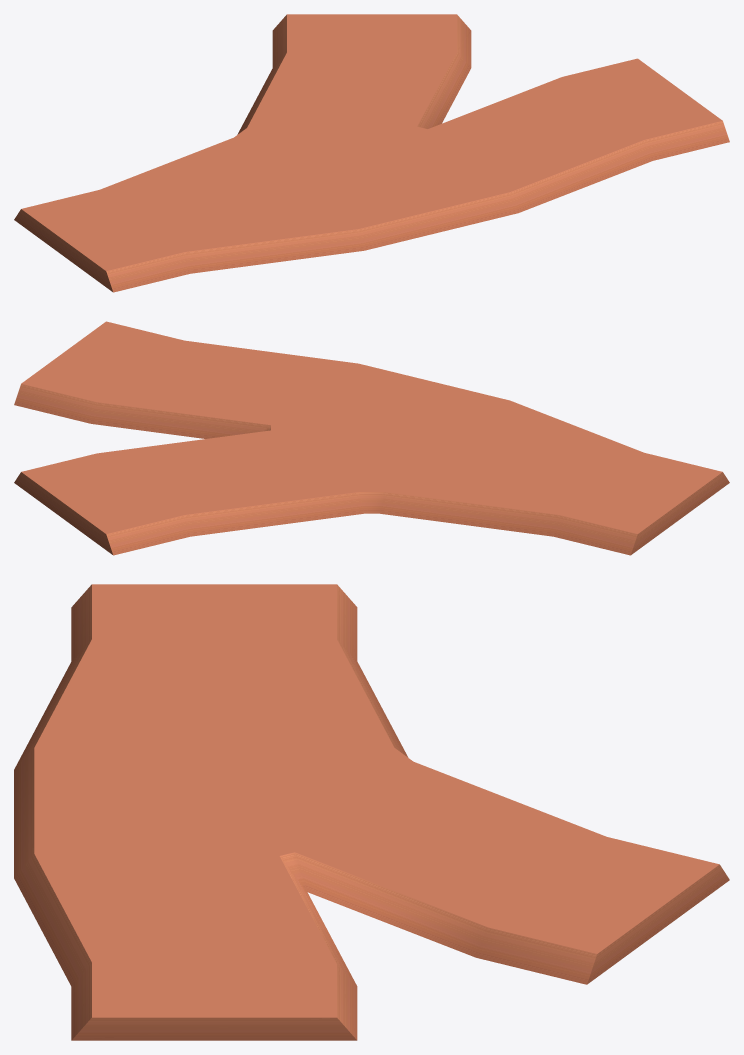
The model's file is path-intersection-b.glb.
3 views of the same model, one above another, from view 1: azimuth 30°, elevation 25°; view 2: azimuth 150°, elevation 25°; view 3: azimuth 270°, elevation 25° (orthographic). The views are drawn at different scales.
Visible parts, largest first — view 1: path-intersectionB; view 2: path-intersectionB; view 3: path-intersectionB.
Part boxes in pixels (<box>): path-intersectionB: <box>14,14,729,292</box>; path-intersectionB: <box>14,321,729,555</box>; path-intersectionB: <box>14,584,729,1040</box>.
Size of the model in its own units: 1 by 0.025 by 0.6982.
Materials: 1 (1 with a texture image).
